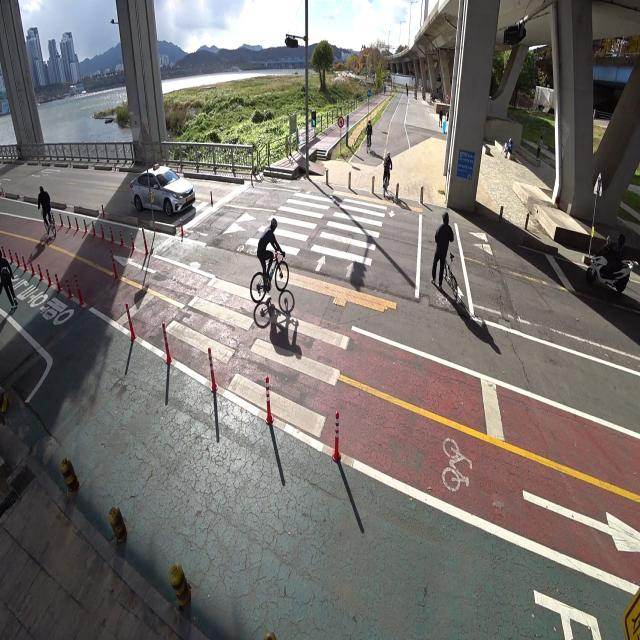Car: (127, 156, 200, 219)
Motorcycle: (583, 230, 631, 297)
